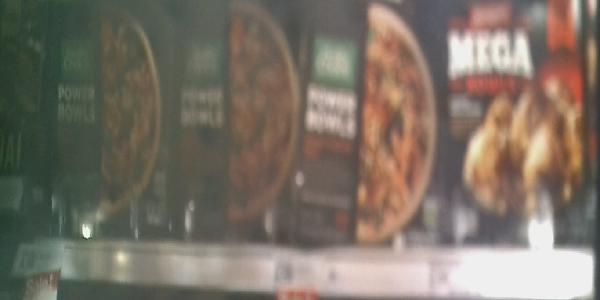pizza1: (293, 1, 446, 244), (445, 1, 595, 246), (41, 1, 176, 238), (177, 1, 291, 241)
